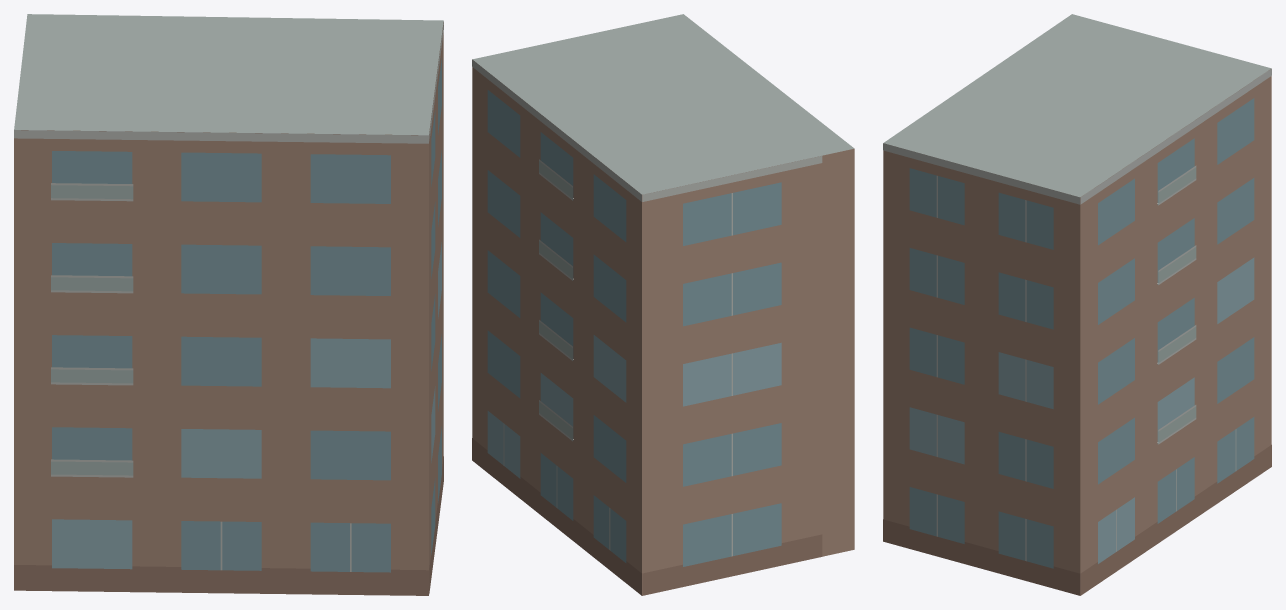
Rendered from survey-upis-32890961.glb.
3 views of the same model, side by side, from view 1: azimuth 30°, elevation 25°; view 2: azimuth 150°, elevation 25°; view 3: azimuth 270°, elevation 25° (orthographic). The views are drawn at different scales.
Parts seen in each view (by area): view 1: survey-upis-32890961.tmp; view 2: survey-upis-32890961.tmp; view 3: survey-upis-32890961.tmp.
Part boxes in pixels (x1,y1,x2,y2): survey-upis-32890961.tmp: (14,14,443,595); survey-upis-32890961.tmp: (472,14,854,595); survey-upis-32890961.tmp: (883,14,1271,595).
Bounding box in the file's own units: 13.04 × 13.2 × 11.68.
